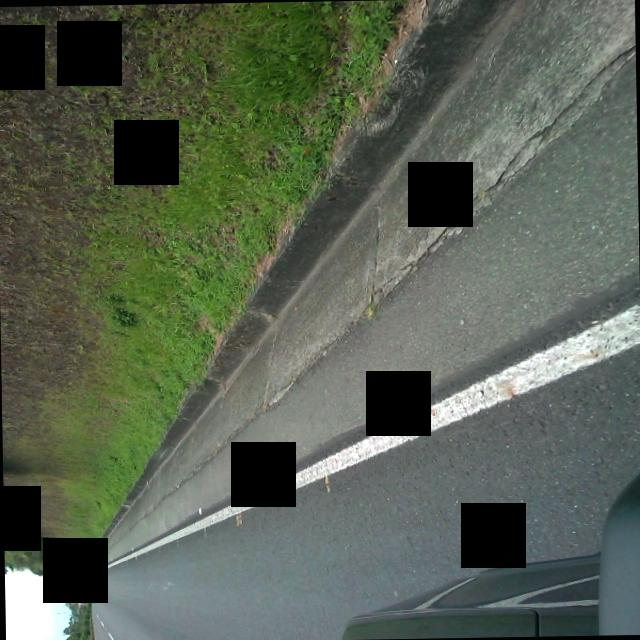DITCH: (26, 0, 640, 640), (77, 0, 640, 576)
